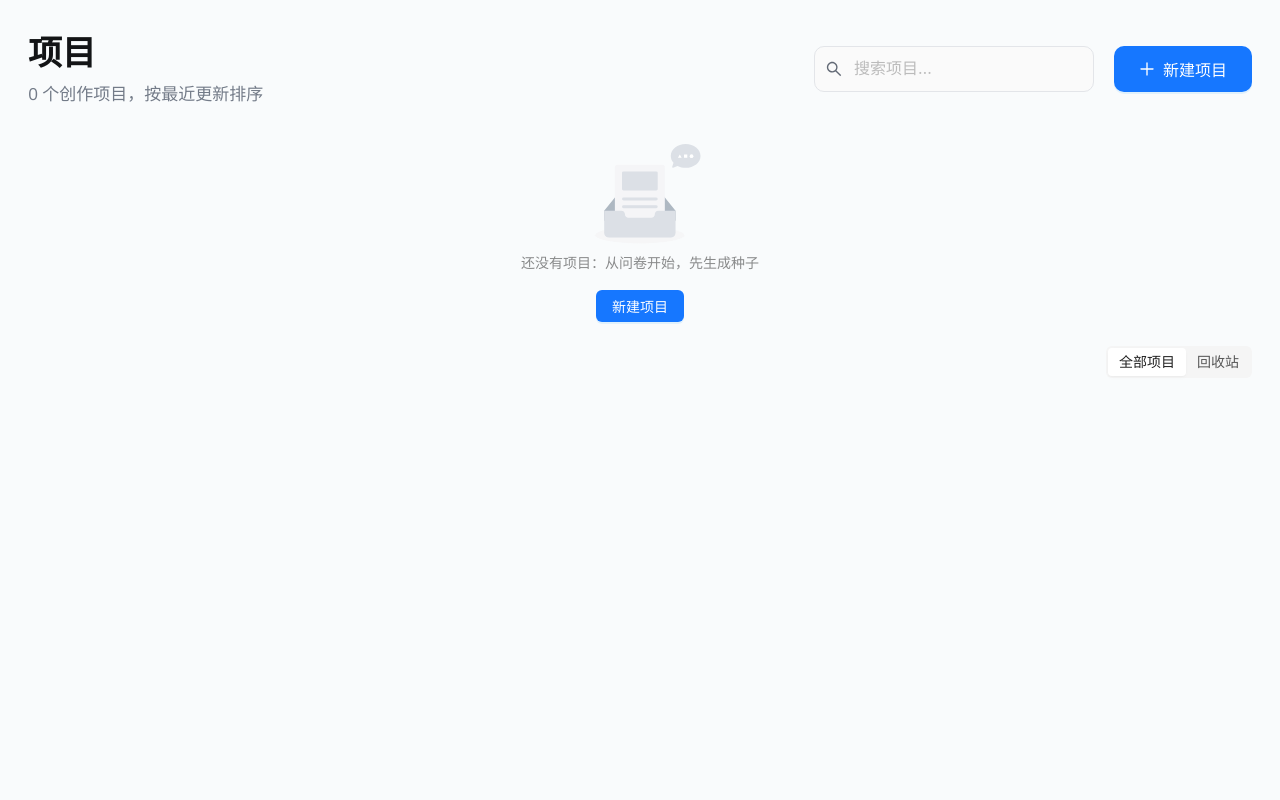
it: ProjectListPage › 清空回收站需弹窗确认
Expected: the text "还没有项目：从问卷开始，先生成种子" is shown, [521,254,759,271]
Click the radio button "回收站": (1218, 361) [1197,353,1239,370]
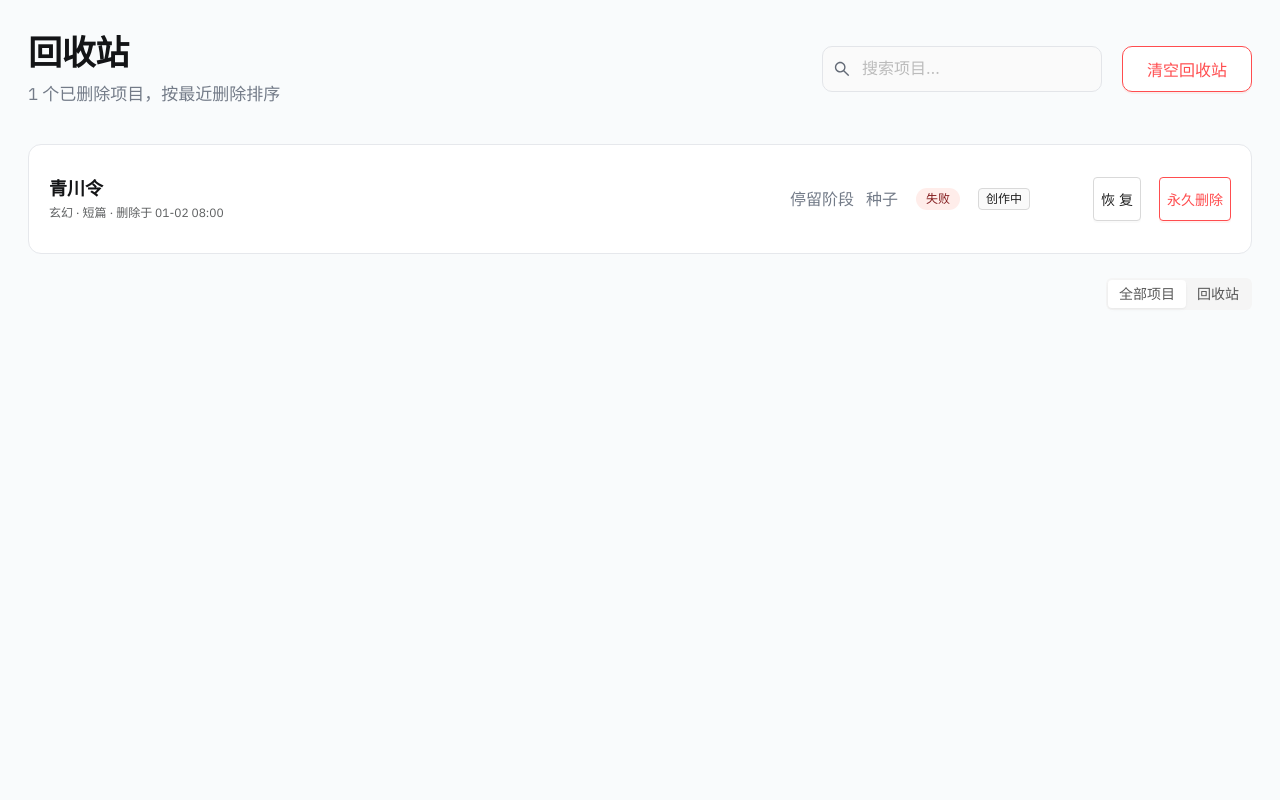
Expected: the text "青川令" is shown, [49,177,103,200]
Click the button "清空回收站": (1187, 69) [1122,46,1252,92]
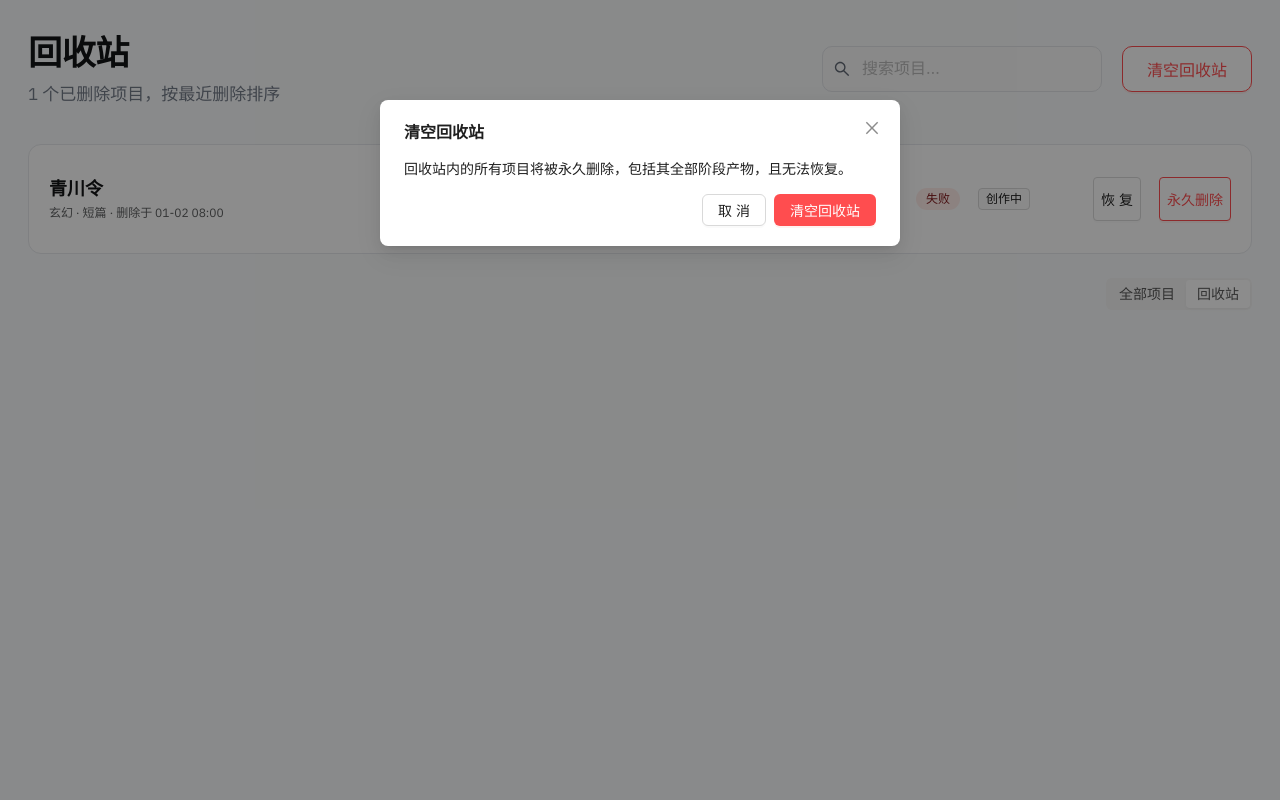
Expected: the text "回收站内的所有项目将被永久删除，包括其全部阶段产物，且无法恢复。" is shown, [404,158,876,180]
Click the button "清空回收站": (825, 210) [774,194,876,226]
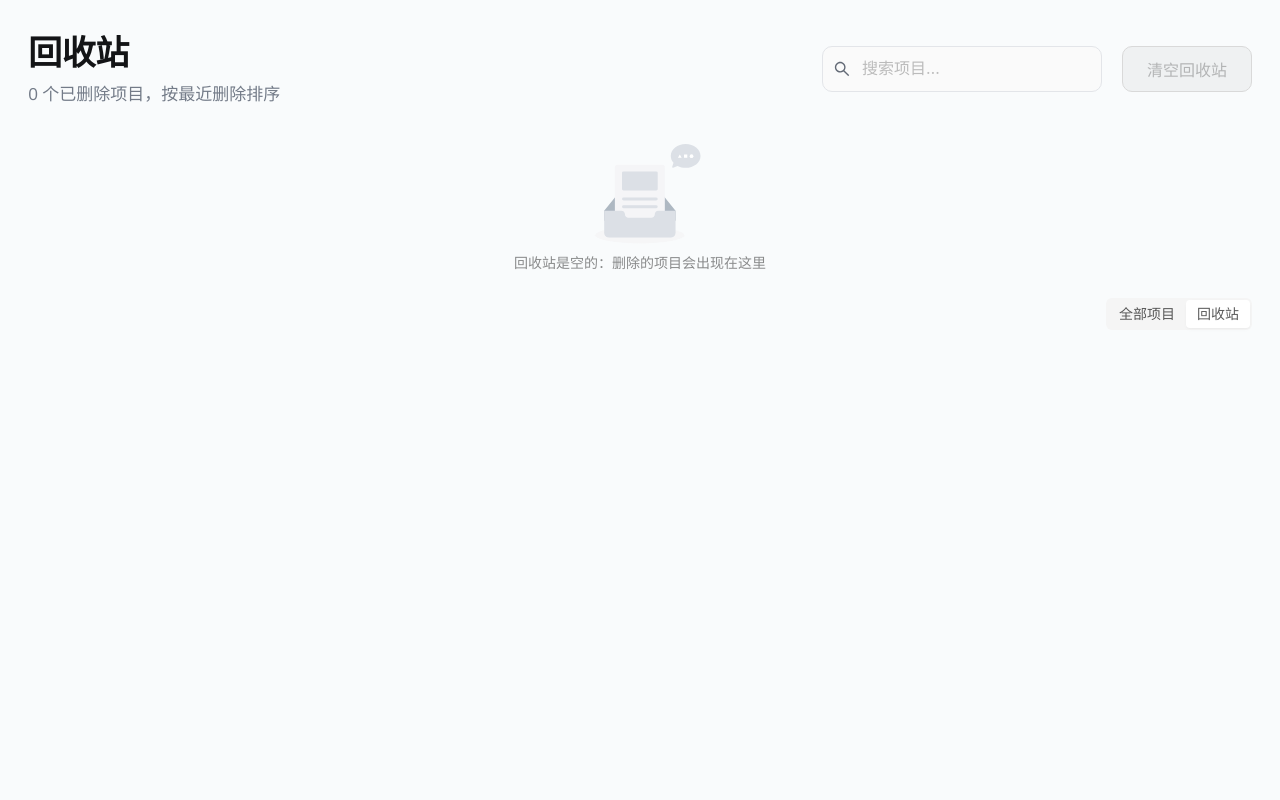
Expected: the text "回收站是空的：删除的项目会出现在这里" is shown, [514,254,766,271]
Expected: the button "清空回收站" is disabled, [1122,46,1252,92]
